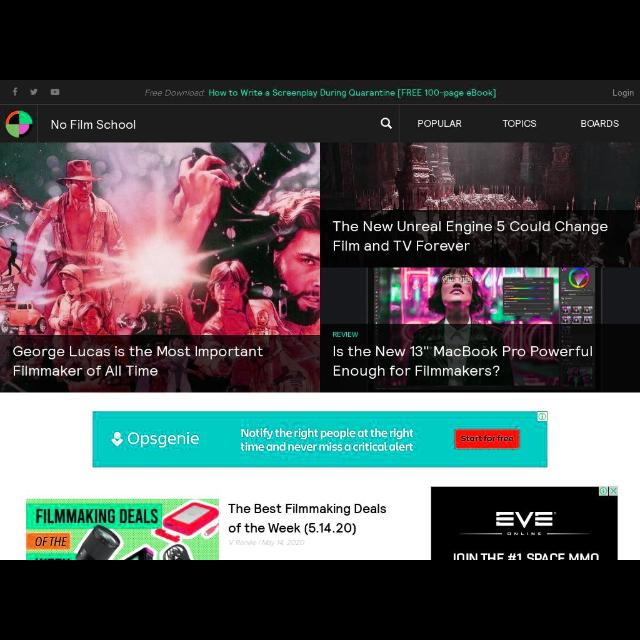icon: (376, 115, 394, 132), (50, 86, 60, 98), (10, 84, 18, 96), (28, 87, 38, 95)
iframe: (27, 488, 619, 558), (95, 412, 548, 468)
image: (1, 142, 321, 392), (324, 143, 638, 393), (4, 108, 34, 138)
multitab: (401, 106, 639, 142)
text: (143, 86, 501, 100), (46, 113, 138, 135), (414, 115, 464, 134), (580, 116, 624, 132), (610, 84, 636, 98), (503, 118, 537, 128)
toolbar: (1, 81, 638, 103)
